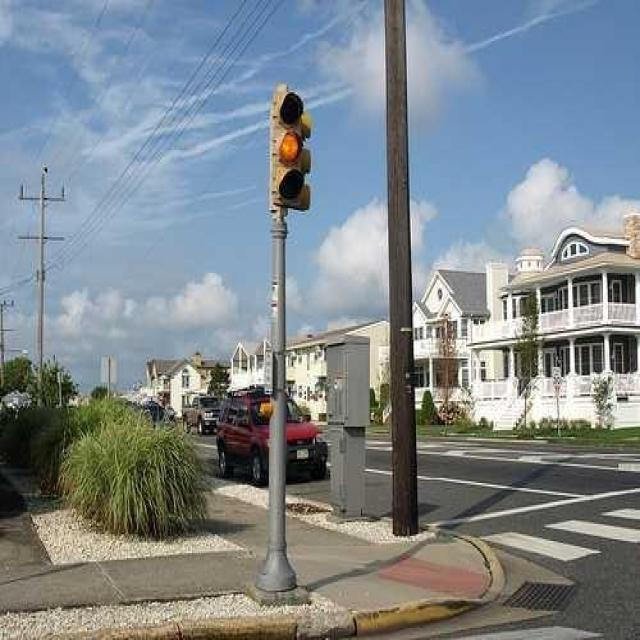Traffic Light -Yellow-: (274, 82, 312, 213)
